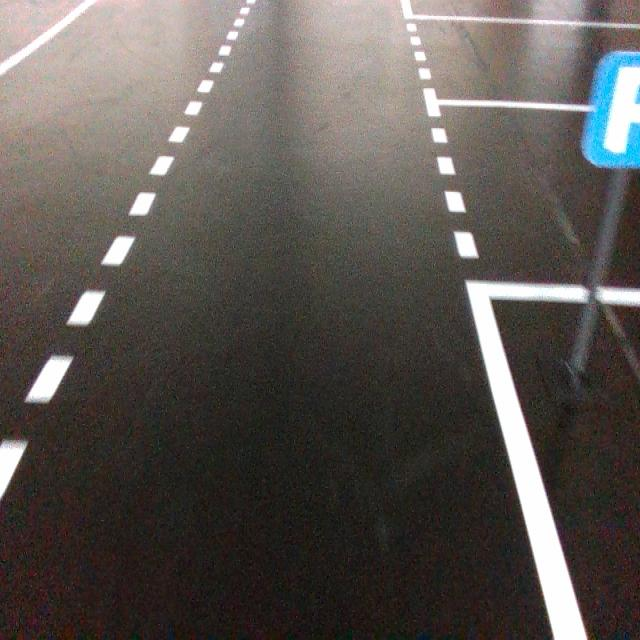parking-sign: (580, 51, 640, 169)
